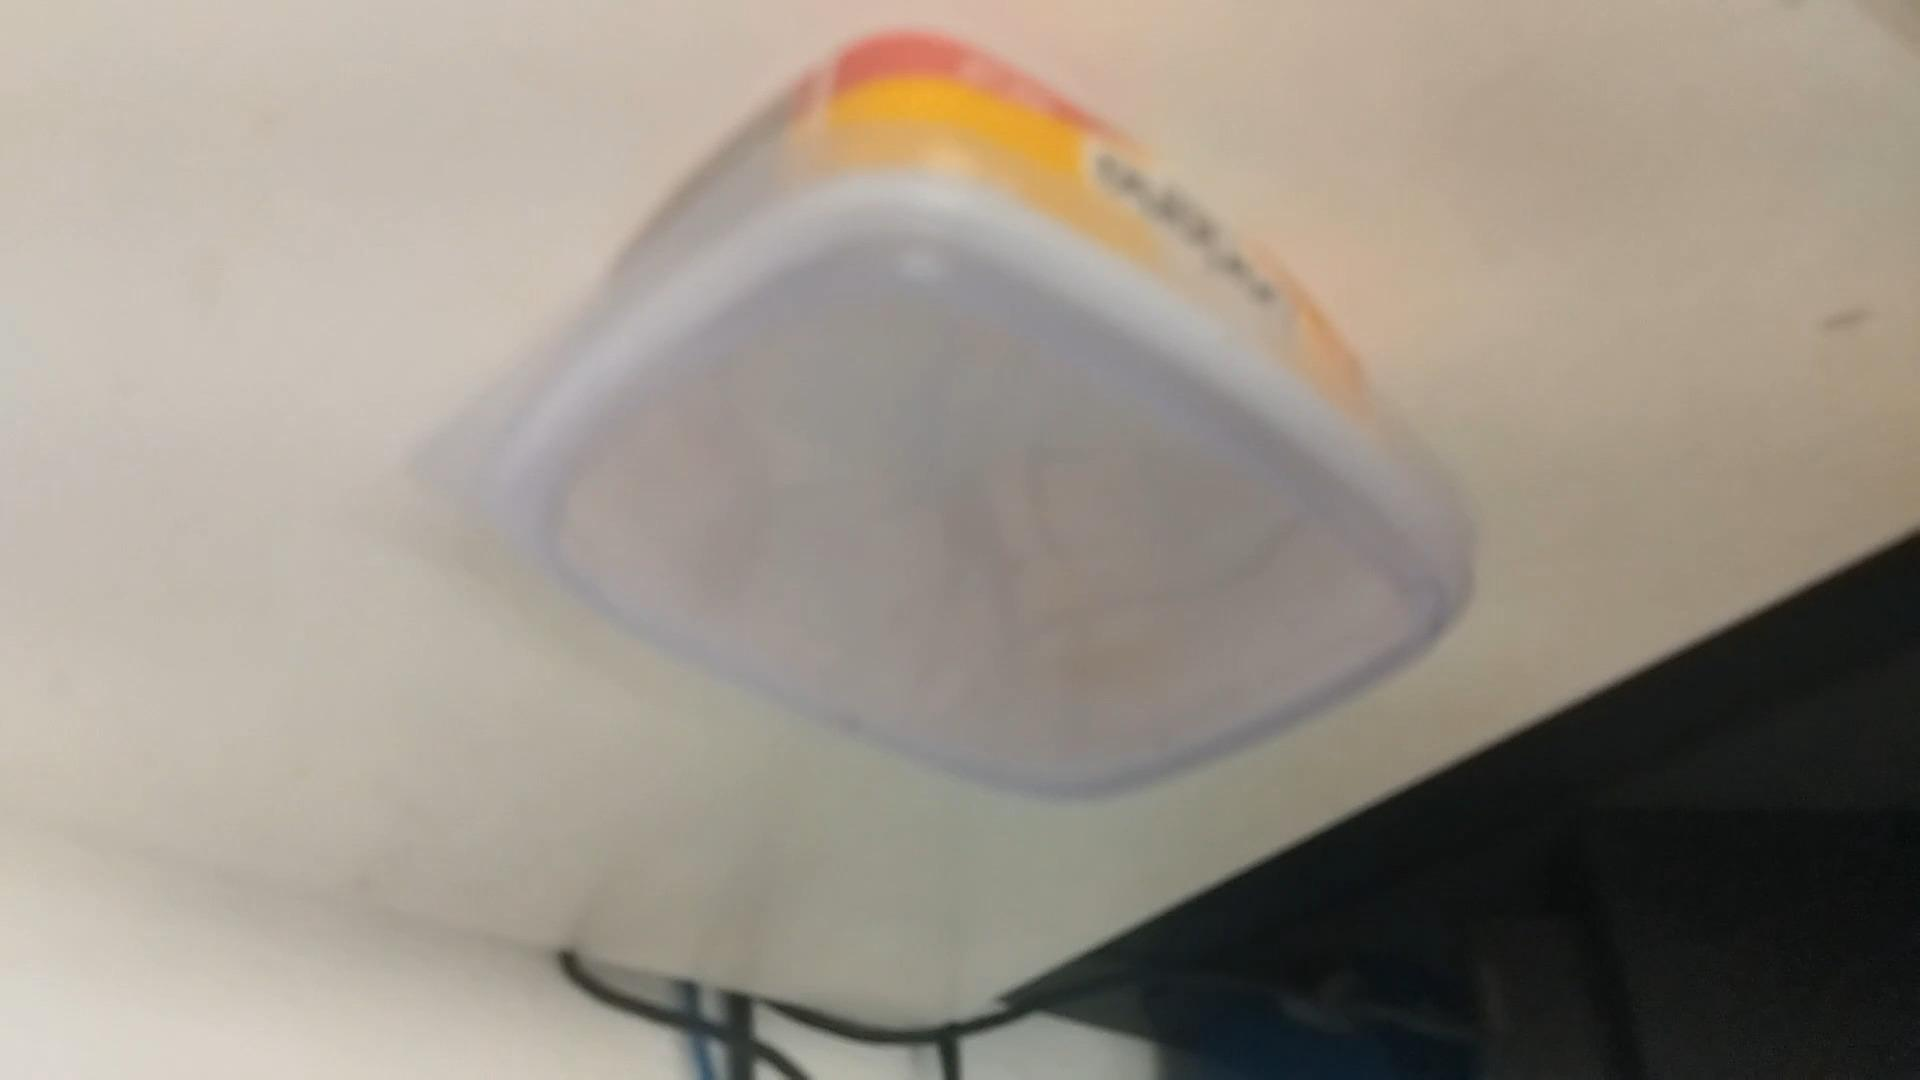butter: (411, 44, 1458, 806)
